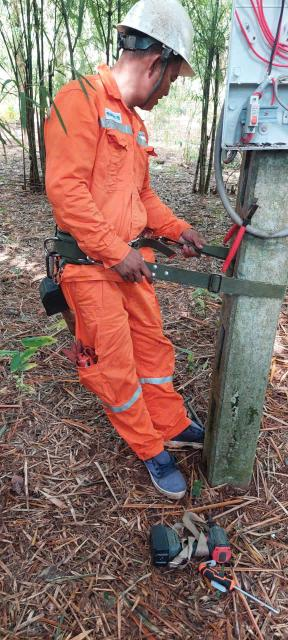harness: (12, 216, 288, 312)
helmet: (86, 2, 214, 78)
shoes: (99, 446, 198, 511), (149, 410, 218, 452)
